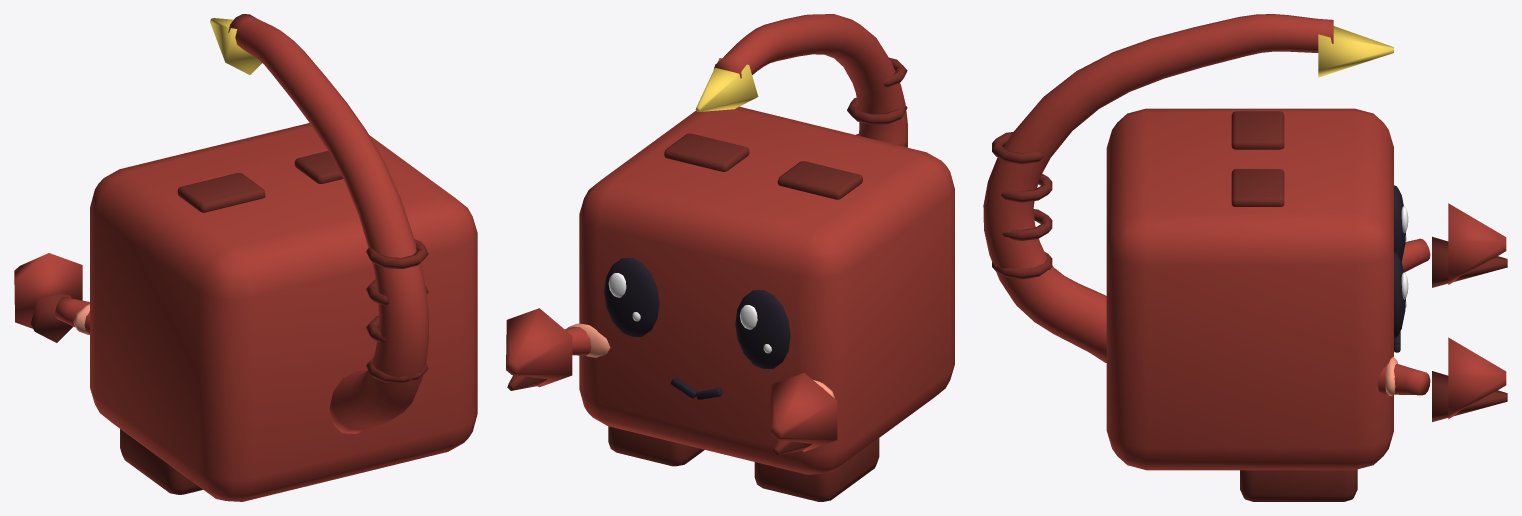
Rendered from pet_scorpion.fbx.
3 views of the same model, side by side, from view 1: azimuth 30°, elevation 25°; view 2: azimuth 150°, elevation 25°; view 3: azimuth 270°, elevation 25° (orthographic). The views are drawn at different scales.
Visible parts, largest first — view 1: pet_scorpion; view 2: pet_scorpion; view 3: pet_scorpion.
Part boxes in pixels (x1,y1,x2,y2): pet_scorpion: (14,14,477,501); pet_scorpion: (506,14,954,501); pet_scorpion: (983,14,1507,501).
Bounding box in the file's own units: 2.62 × 3.17 × 3.47.
Materials: 1 (1 with a texture image).
